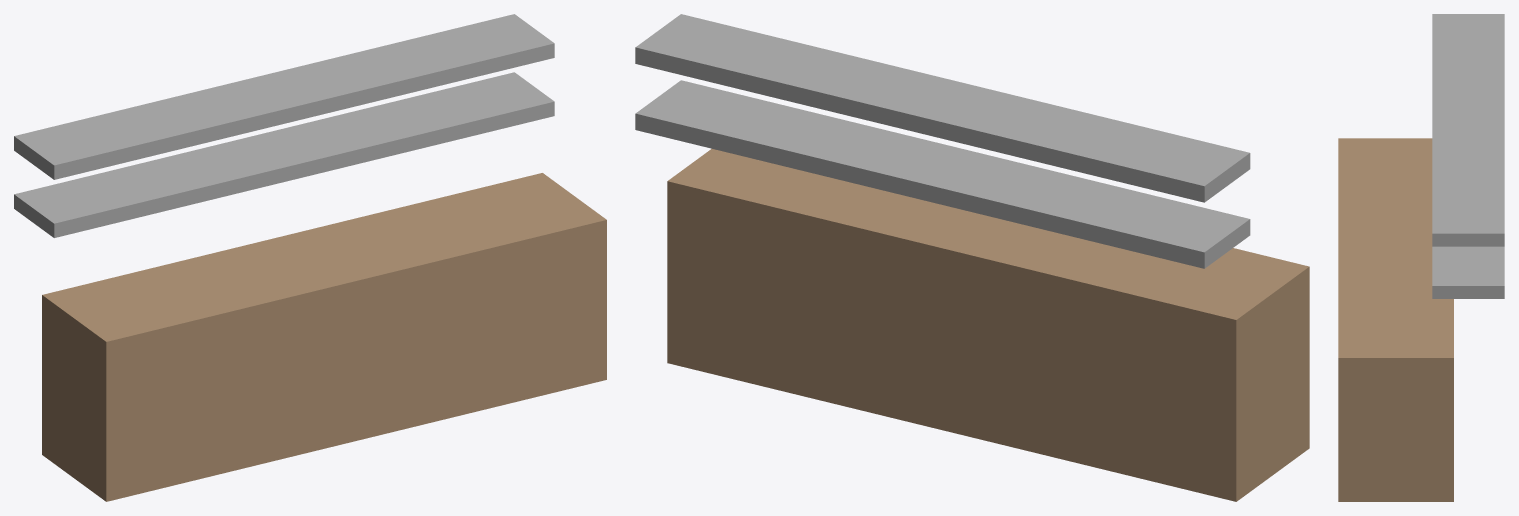
The model's file is bar_counter_shelves.glb.
3 views of the same model, side by side, from view 1: azimuth 30°, elevation 25°; view 2: azimuth 150°, elevation 25°; view 3: azimuth 270°, elevation 25° (orthographic). The views are drawn at different scales.
Visible parts, largest first — view 1: counter, shelf2, shelf; view 2: counter, shelf2, shelf; view 3: counter, shelf2, shelf.
Part boxes in pixels (box(x1,y1,x2,y2)): counter: box(42, 173, 606, 501); shelf2: box(14, 14, 554, 179); shelf: box(14, 72, 554, 237); counter: box(667, 149, 1309, 501); shelf2: box(635, 14, 1250, 202); shelf: box(635, 80, 1250, 268); counter: box(1338, 138, 1453, 501); shelf2: box(1432, 14, 1504, 246); shelf: box(1432, 246, 1504, 298).
Bounding box in the file's own units: 3.6 × 2.05 × 1.15.
